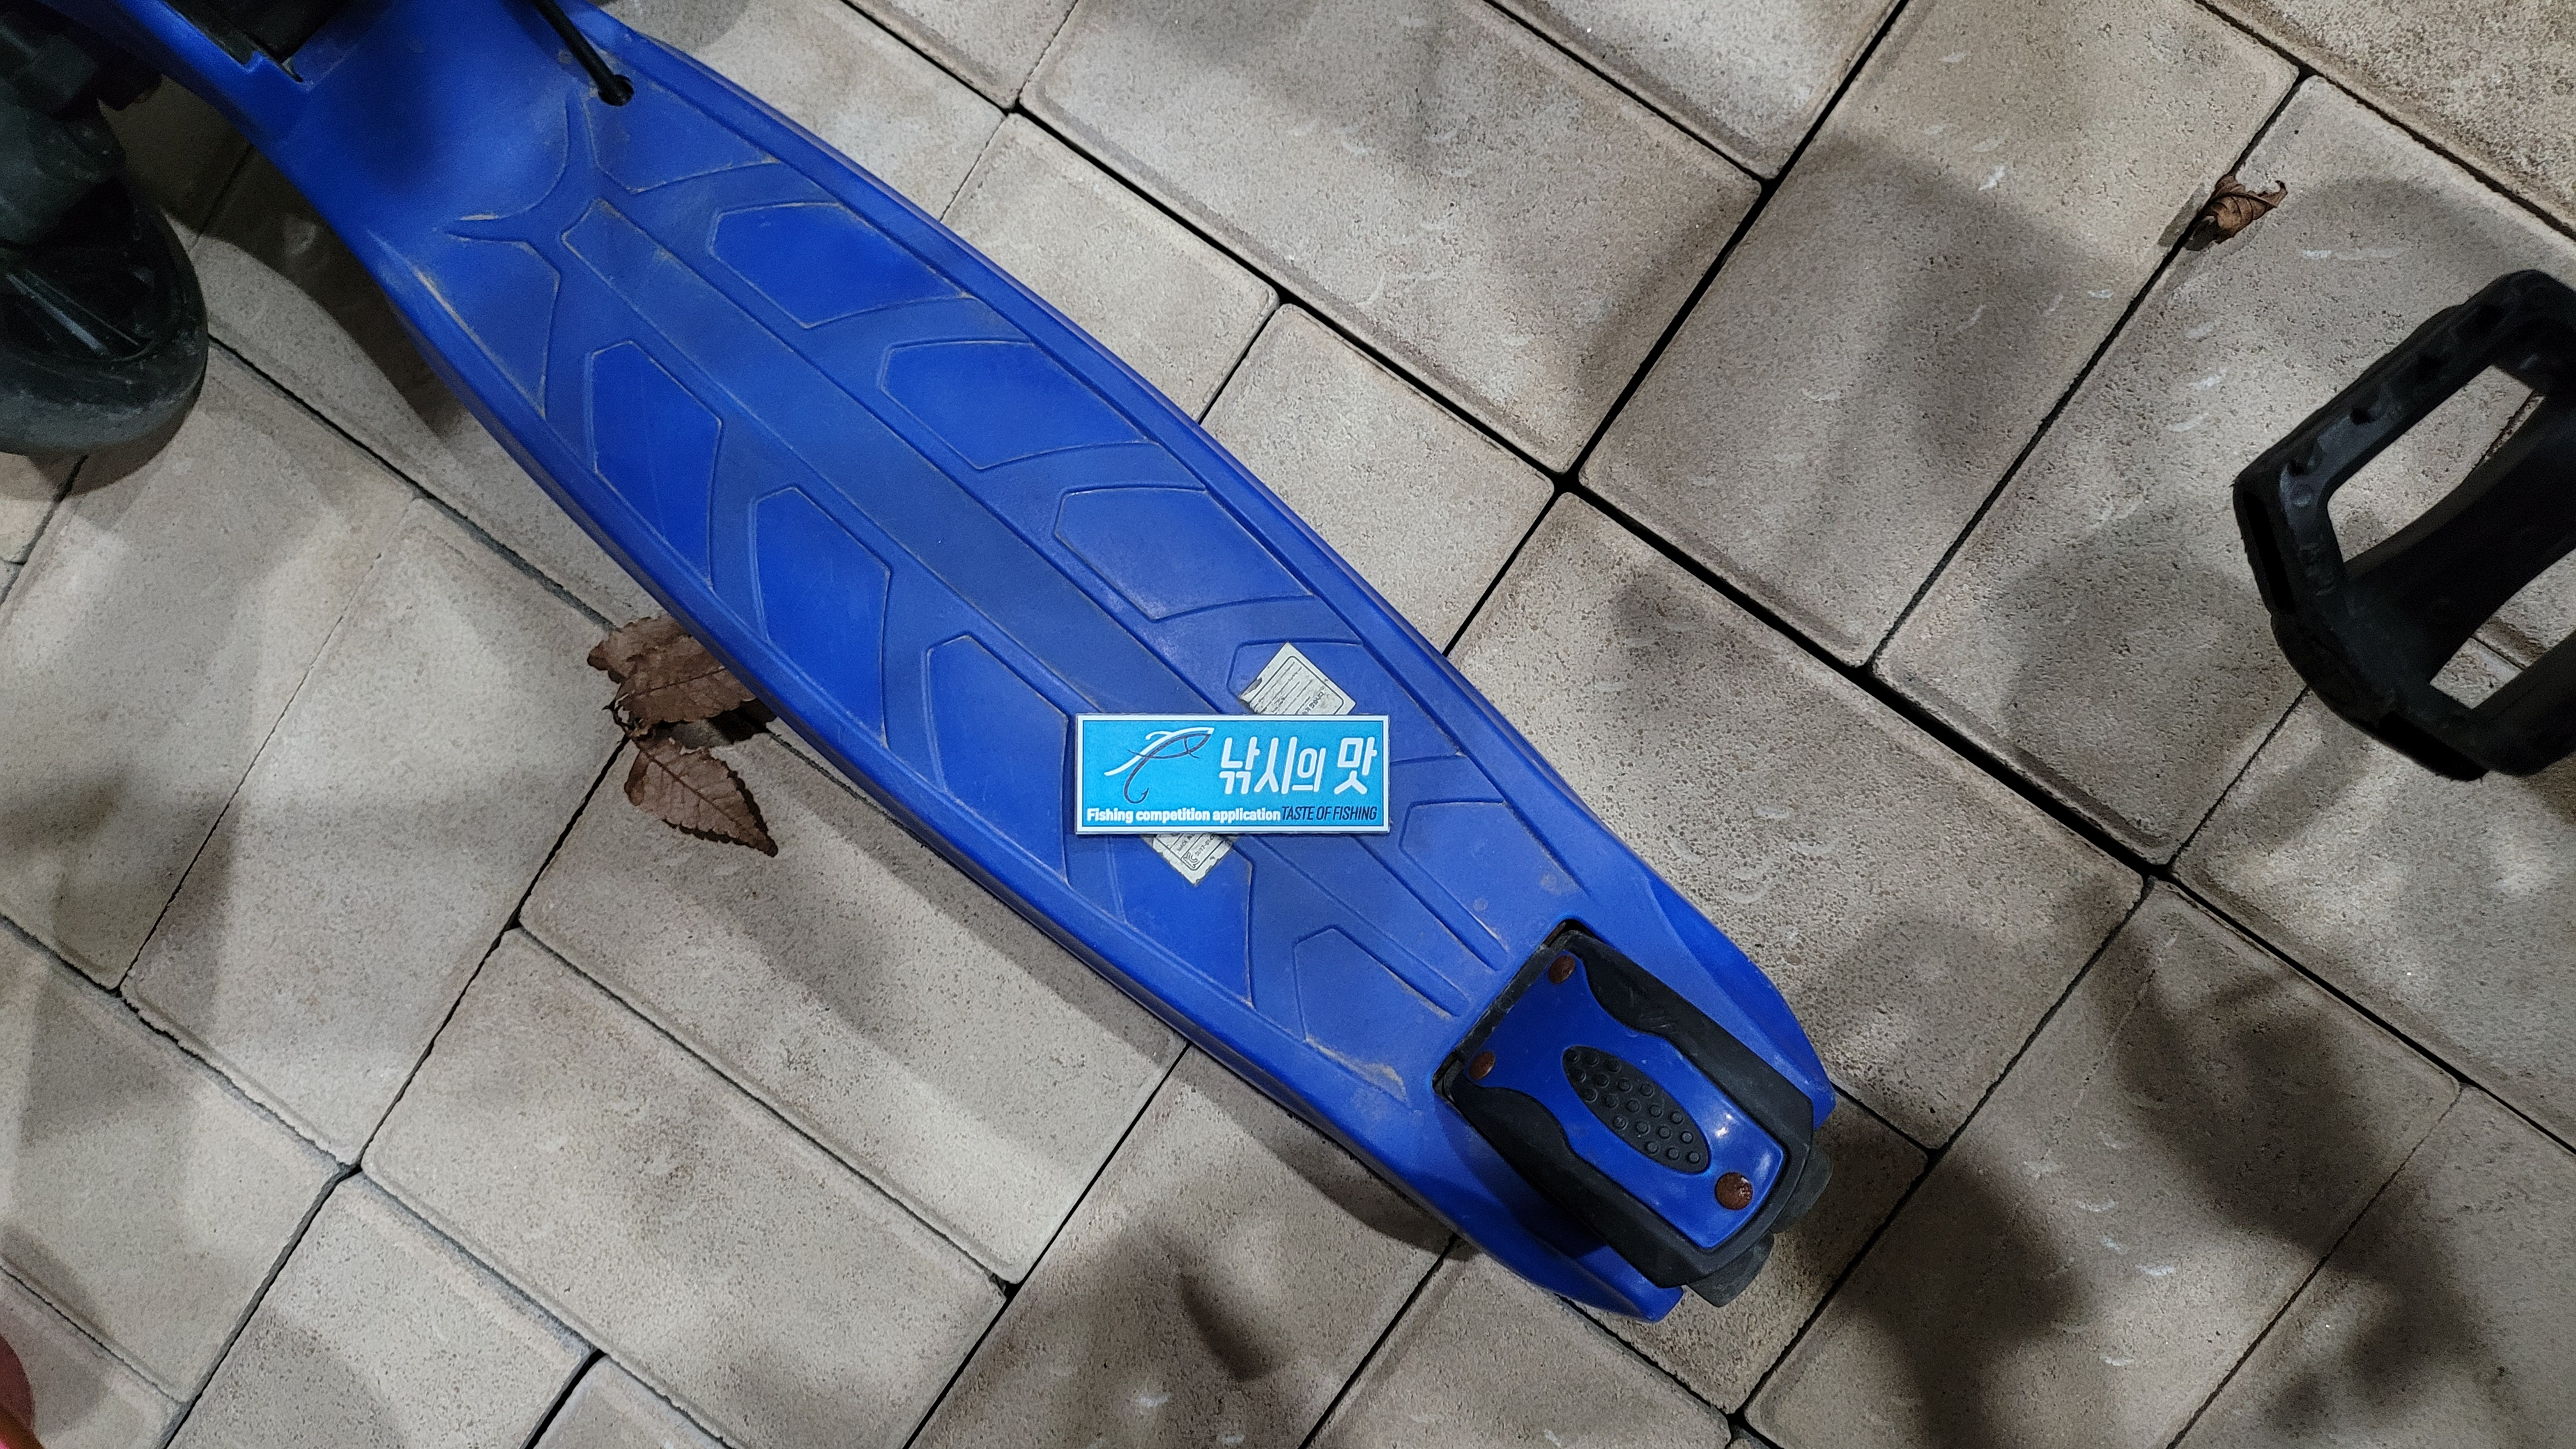tag: (1072, 713, 1387, 832)
